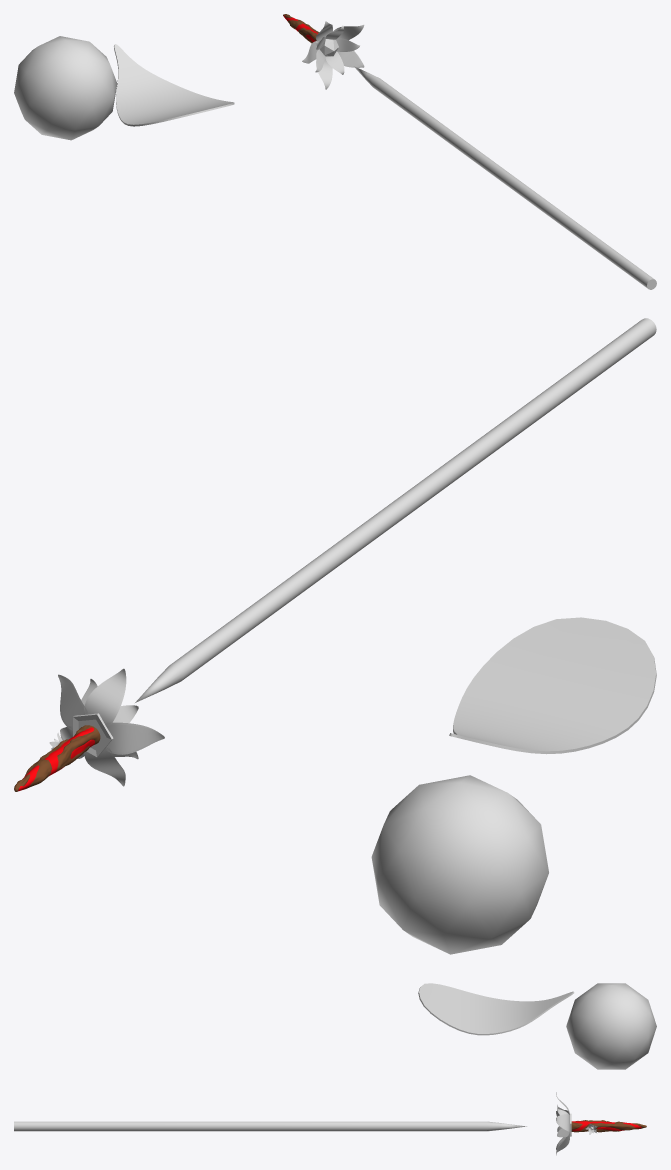
Rendered from Lotus.fbx.
3 views of the same model, one above another, from view 1: azimuth 30°, elevation 25°; view 2: azimuth 150°, elevation 25°; view 3: azimuth 270°, elevation 25° (orthographic). The views are drawn at different scales.
Parts seen in each view (by area): view 1: Icosphere For particles, Blade, petal For particles, Bottom Flower, Top Flower; view 2: Icosphere For particles, petal For particles, Blade, Bottom Flower, Handle Wood; view 3: Icosphere For particles, Blade, petal For particles, Handle Wood, Bottom Flower, Handle Core.
Boxes of the visible parts, bbox=[...] form: Icosphere For particles: bbox=[14, 36, 117, 140]; Blade: bbox=[353, 66, 656, 289]; petal For particles: bbox=[114, 44, 234, 126]; Bottom Flower: bbox=[302, 21, 364, 89]; Top Flower: bbox=[315, 25, 359, 74]; Icosphere For particles: bbox=[371, 775, 548, 954]; petal For particles: bbox=[449, 617, 656, 754]; Blade: bbox=[135, 318, 656, 702]; Bottom Flower: bbox=[58, 668, 164, 786]; Handle Wood: bbox=[14, 725, 100, 791]; Icosphere For particles: bbox=[566, 983, 656, 1069]; Blade: bbox=[14, 1121, 526, 1131]; petal For particles: bbox=[418, 983, 574, 1035]; Handle Wood: bbox=[571, 1120, 646, 1132]; Bottom Flower: bbox=[556, 1092, 569, 1155]; Handle Core: bbox=[572, 1121, 641, 1131].
Bounding box in the file's own units: 57.27 × 17.95 × 120.
